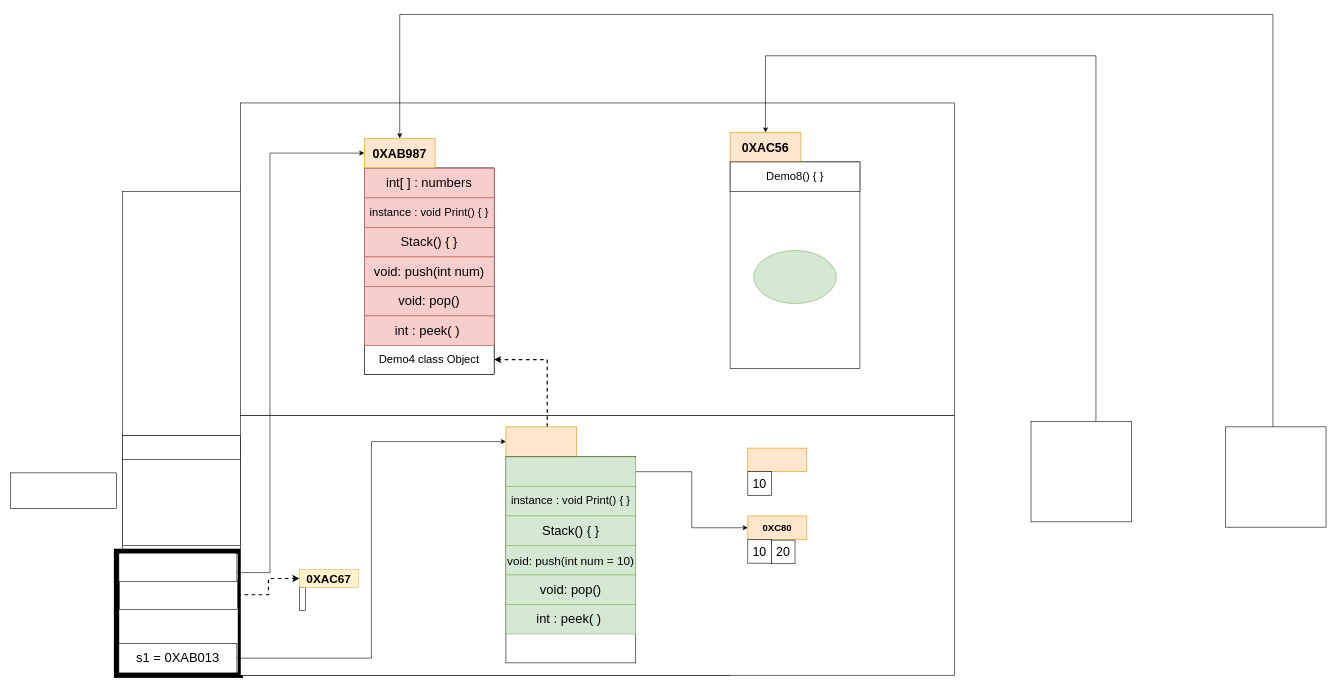
This 1336x688 diagram has some shape labels left out. Each missing label, with the centre of its shape:
0X7A1: (777,460)
0XAB013: (541,441)
0XAB013.print ( ): (63,490)
Demo8.class: (1080,471)
int[ ] : numbers = 0XC80: (570,471)
psvm: (794,277)
RCP = 0XAB987: (177,567)
Stack.class: (1275,476)
String[ ] args = 0XAC67: (178,594)
this = 0XAB013: (181,447)
